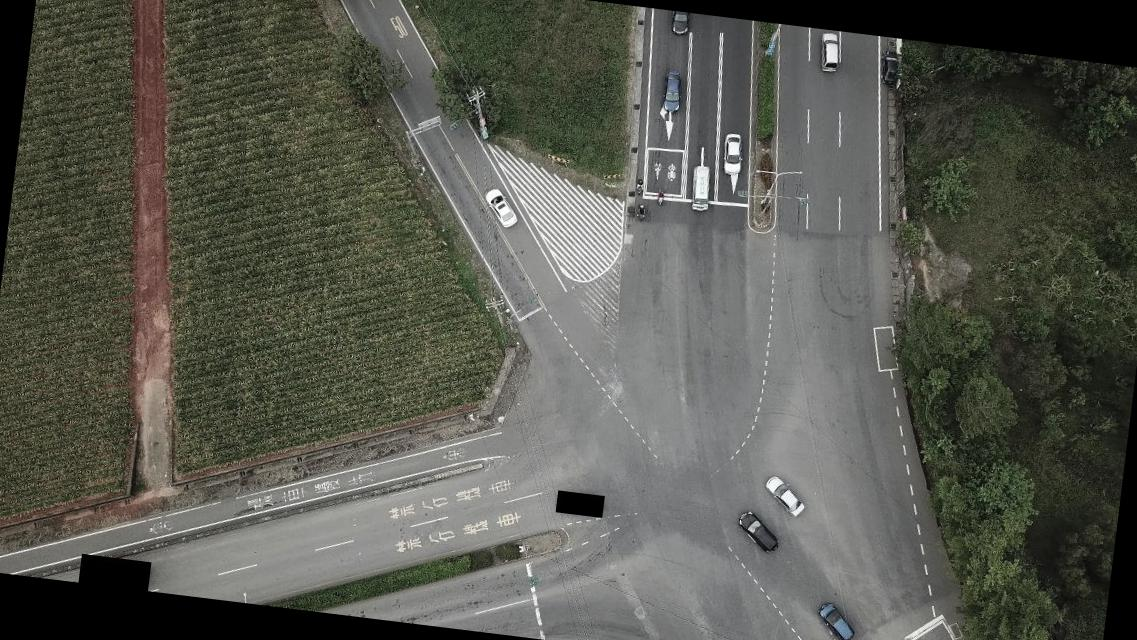vehicle: (732, 509, 782, 552), (763, 475, 808, 515), (814, 598, 856, 639), (479, 184, 518, 228), (686, 160, 717, 214), (718, 128, 747, 176), (658, 66, 686, 115), (815, 32, 843, 74), (876, 44, 902, 84), (664, 11, 696, 37)
